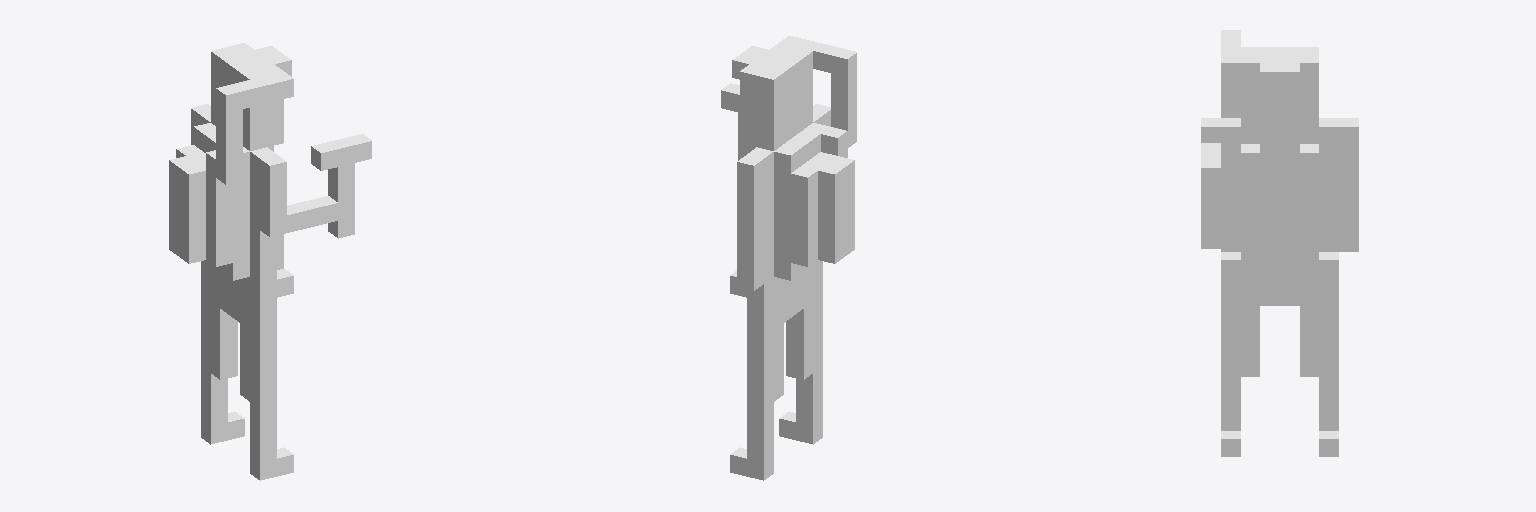
The model's file is astro5.obj.
3 views of the same model, side by side, from view 1: azimuth 30°, elevation 25°; view 2: azimuth 150°, elevation 25°; view 3: azimuth 270°, elevation 25° (orthographic).
Bounding box in the file's own units: 9 × 22 × 8.